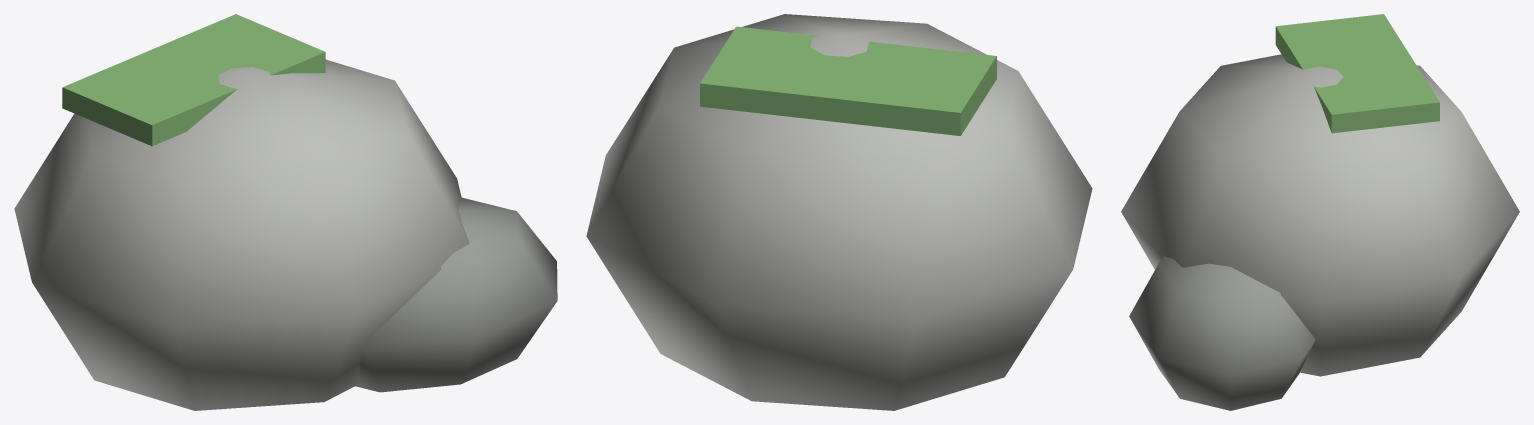
The model's file is rock_obstacle.glb.
3 views of the same model, side by side, from view 1: azimuth 30°, elevation 25°; view 2: azimuth 150°, elevation 25°; view 3: azimuth 270°, elevation 25° (orthographic). The views are drawn at different scales.
Parts seen in each view (by area): view 1: rock_obstacle; view 2: rock_obstacle; view 3: rock_obstacle.
Boxes of the visible parts, x1=… form: rock_obstacle: x1=14, y1=14, x2=557, y2=410; rock_obstacle: x1=586, y1=14, x2=1092, y2=410; rock_obstacle: x1=1121, y1=14, x2=1519, y2=410.
Size of the model in its own units: 1.29 by 0.8352 by 1.07.
